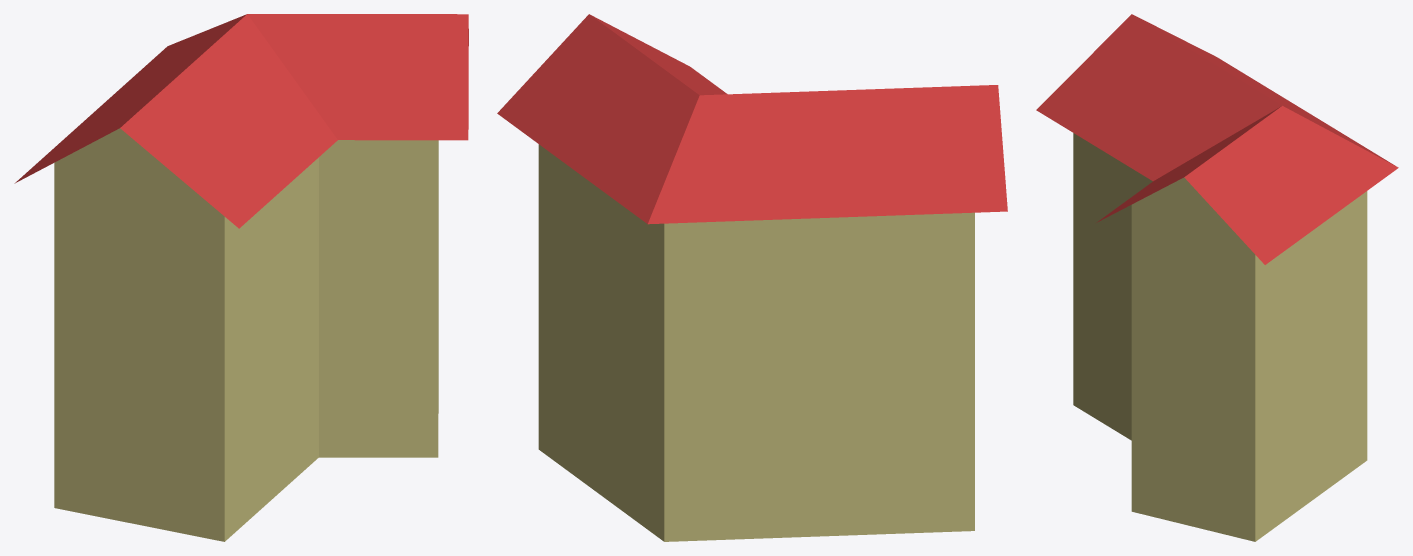
3 renders of one model, left to right at view 1: azimuth 30°, elevation 25°; view 2: azimuth 150°, elevation 25°; view 3: azimuth 270°, elevation 25°, orthographic. The views are drawn at different scales.
Size of the model in its own units: 9.19 by 6.77 by 7.42.
